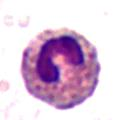monocyte: (20, 27, 104, 110)
